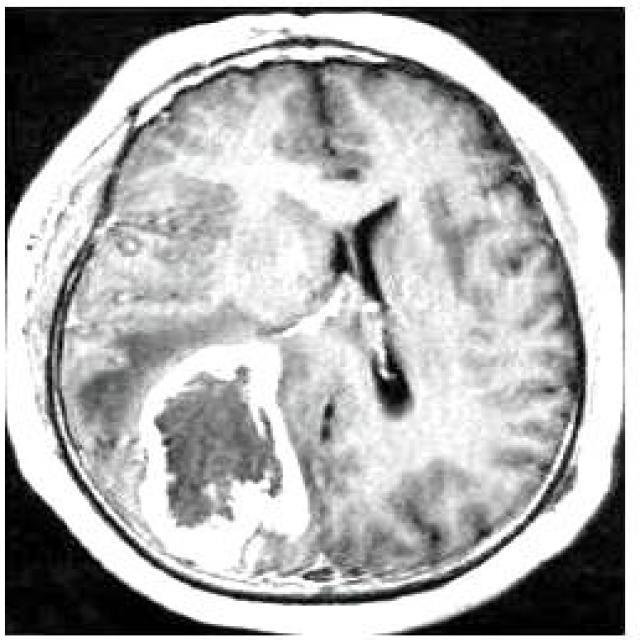tumor: (146, 339, 313, 569)
